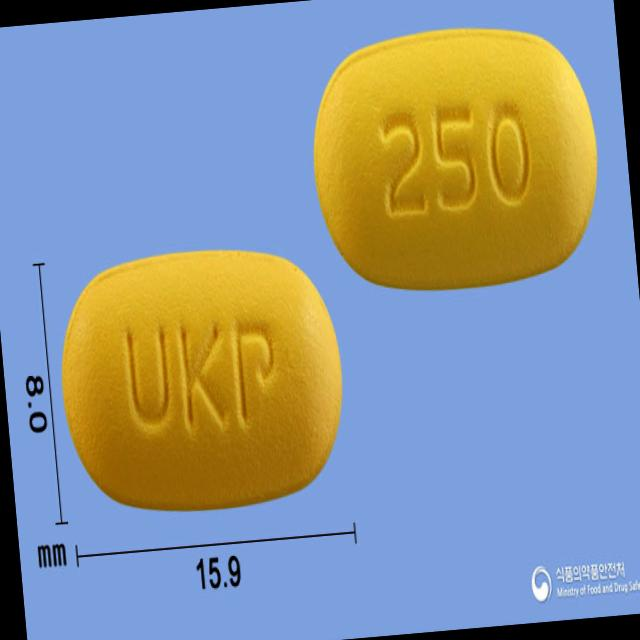Clazin - 500mg: (50, 232, 353, 522), (300, 17, 609, 300)
